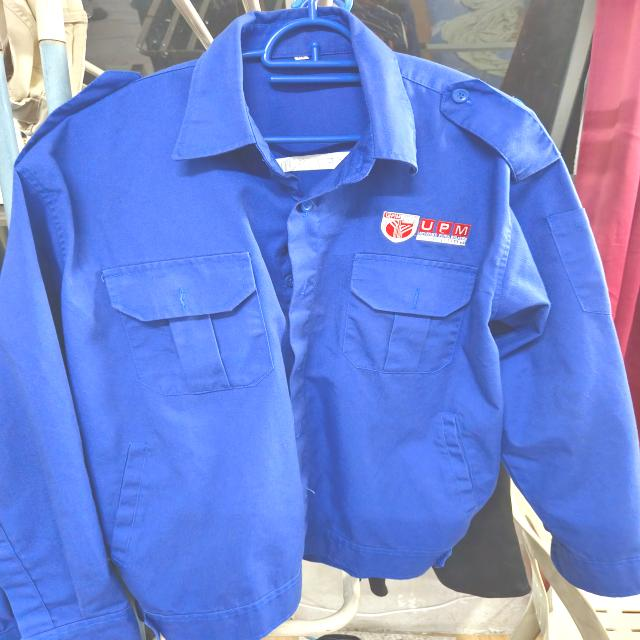person_without_labcoat: (2, 7, 638, 640)
